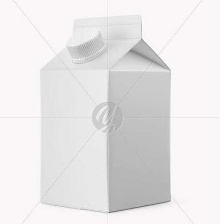carton: (32, 10, 183, 217)
